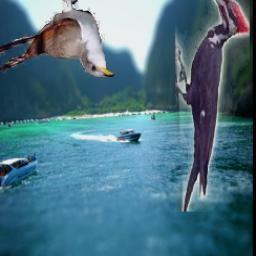Cuckoo: (0, 0, 114, 77)
Woodpecker: (176, 0, 251, 213)
